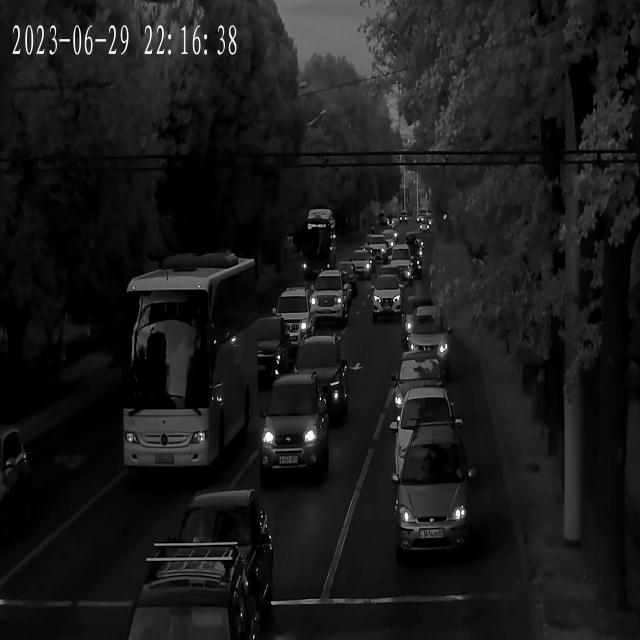Bus: (127, 262, 259, 483), (301, 207, 341, 273)
Car: (166, 493, 270, 620), (394, 428, 474, 561), (125, 576, 258, 640), (258, 371, 327, 479), (273, 334, 346, 424), (394, 388, 463, 452), (1, 424, 36, 550), (390, 353, 449, 425), (403, 311, 451, 370), (304, 272, 354, 326), (272, 288, 320, 341), (260, 318, 295, 384), (402, 295, 446, 336), (370, 272, 406, 318), (389, 244, 422, 276), (379, 261, 412, 289), (332, 264, 359, 297), (344, 253, 373, 280), (364, 235, 388, 260)
